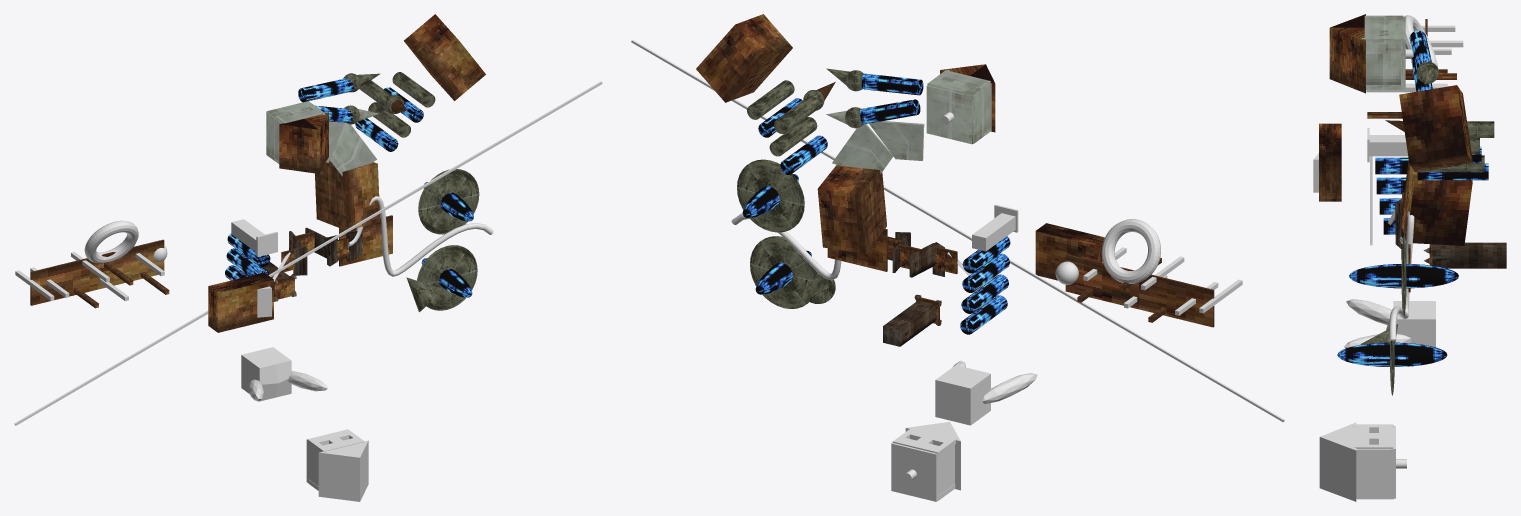
Rendered from ideas-map-v1.glb.
3 views of the same model, side by side, from view 1: azimuth 30°, elevation 25°; view 2: azimuth 150°, elevation 25°; view 3: azimuth 270°, elevation 25° (orthographic). The views are drawn at different scales.
Parts seen in each view (by area): view 1: Cube.037, Cube.053, Cube.010, Cube.028, Cube.047, Cube.030, Sphere.002, Sphere.003, Cube.054, Cube.040, BézierCurve, Cube.038 (+10 smaller); view 2: Cube.037, Cube.053, Cube.010, Sphere.002, Sphere.003, Cube.040, Cube.028, Cube.052, Cube.013, Cube.054, Torus, Cube.038 (+22 smaller); view 3: Cube.053, Cube.037, Cube.047, Cube.030, Sphere.001, Sphere.004, Cube.048, Cube.012, Cube.028, Cube.040, Cube.016, Cube.014 (+23 smaller).
Part boxes in pixels (x1,y1,x2,y2): Cube.037: (315,160,380,230); Cube.053: (404,14,485,100); Cube.010: (30,239,164,305); Cube.028: (208,272,273,332); Cube.047: (318,440,368,501); Cube.030: (279,112,328,173); Sphere.002: (418,169,479,234); Sphere.003: (417,245,477,310); Cube.054: (14,81,602,425); Cube.040: (241,347,291,401); BézierCurve: (348,196,493,276); Cube.038: (330,122,376,176); Cube.037: (817,165,886,253); Cube.053: (696,14,792,102); Cube.010: (1065,254,1214,327); Sphere.002: (737,159,804,232); Sphere.003: (750,236,817,308); Cube.040: (935,365,990,425); Cube.028: (1035,223,1104,280); Cube.052: (891,442,938,501); Cube.013: (926,85,973,144); Cube.054: (631,39,1284,421); Torus: (1101,219,1160,283); Cube.038: (832,124,893,173); Cube.053: (1399,85,1472,172); Cube.037: (1400,160,1472,245); Cube.047: (1319,422,1356,501); Cube.030: (1329,14,1365,93); Sphere.001: (1349,264,1458,288); Sphere.004: (1337,342,1447,366); Cube.048: (1356,449,1393,499); Cube.012: (1432,242,1506,268); Cube.028: (1319,123,1341,201); Cube.040: (1386,301,1435,347); Cube.016: (1362,38,1403,84); Cube.014: (1364,15,1403,43).
Bounding box in the file's own units: 634 × 425 × 155.
Materials: 5 (5 with a texture image).
